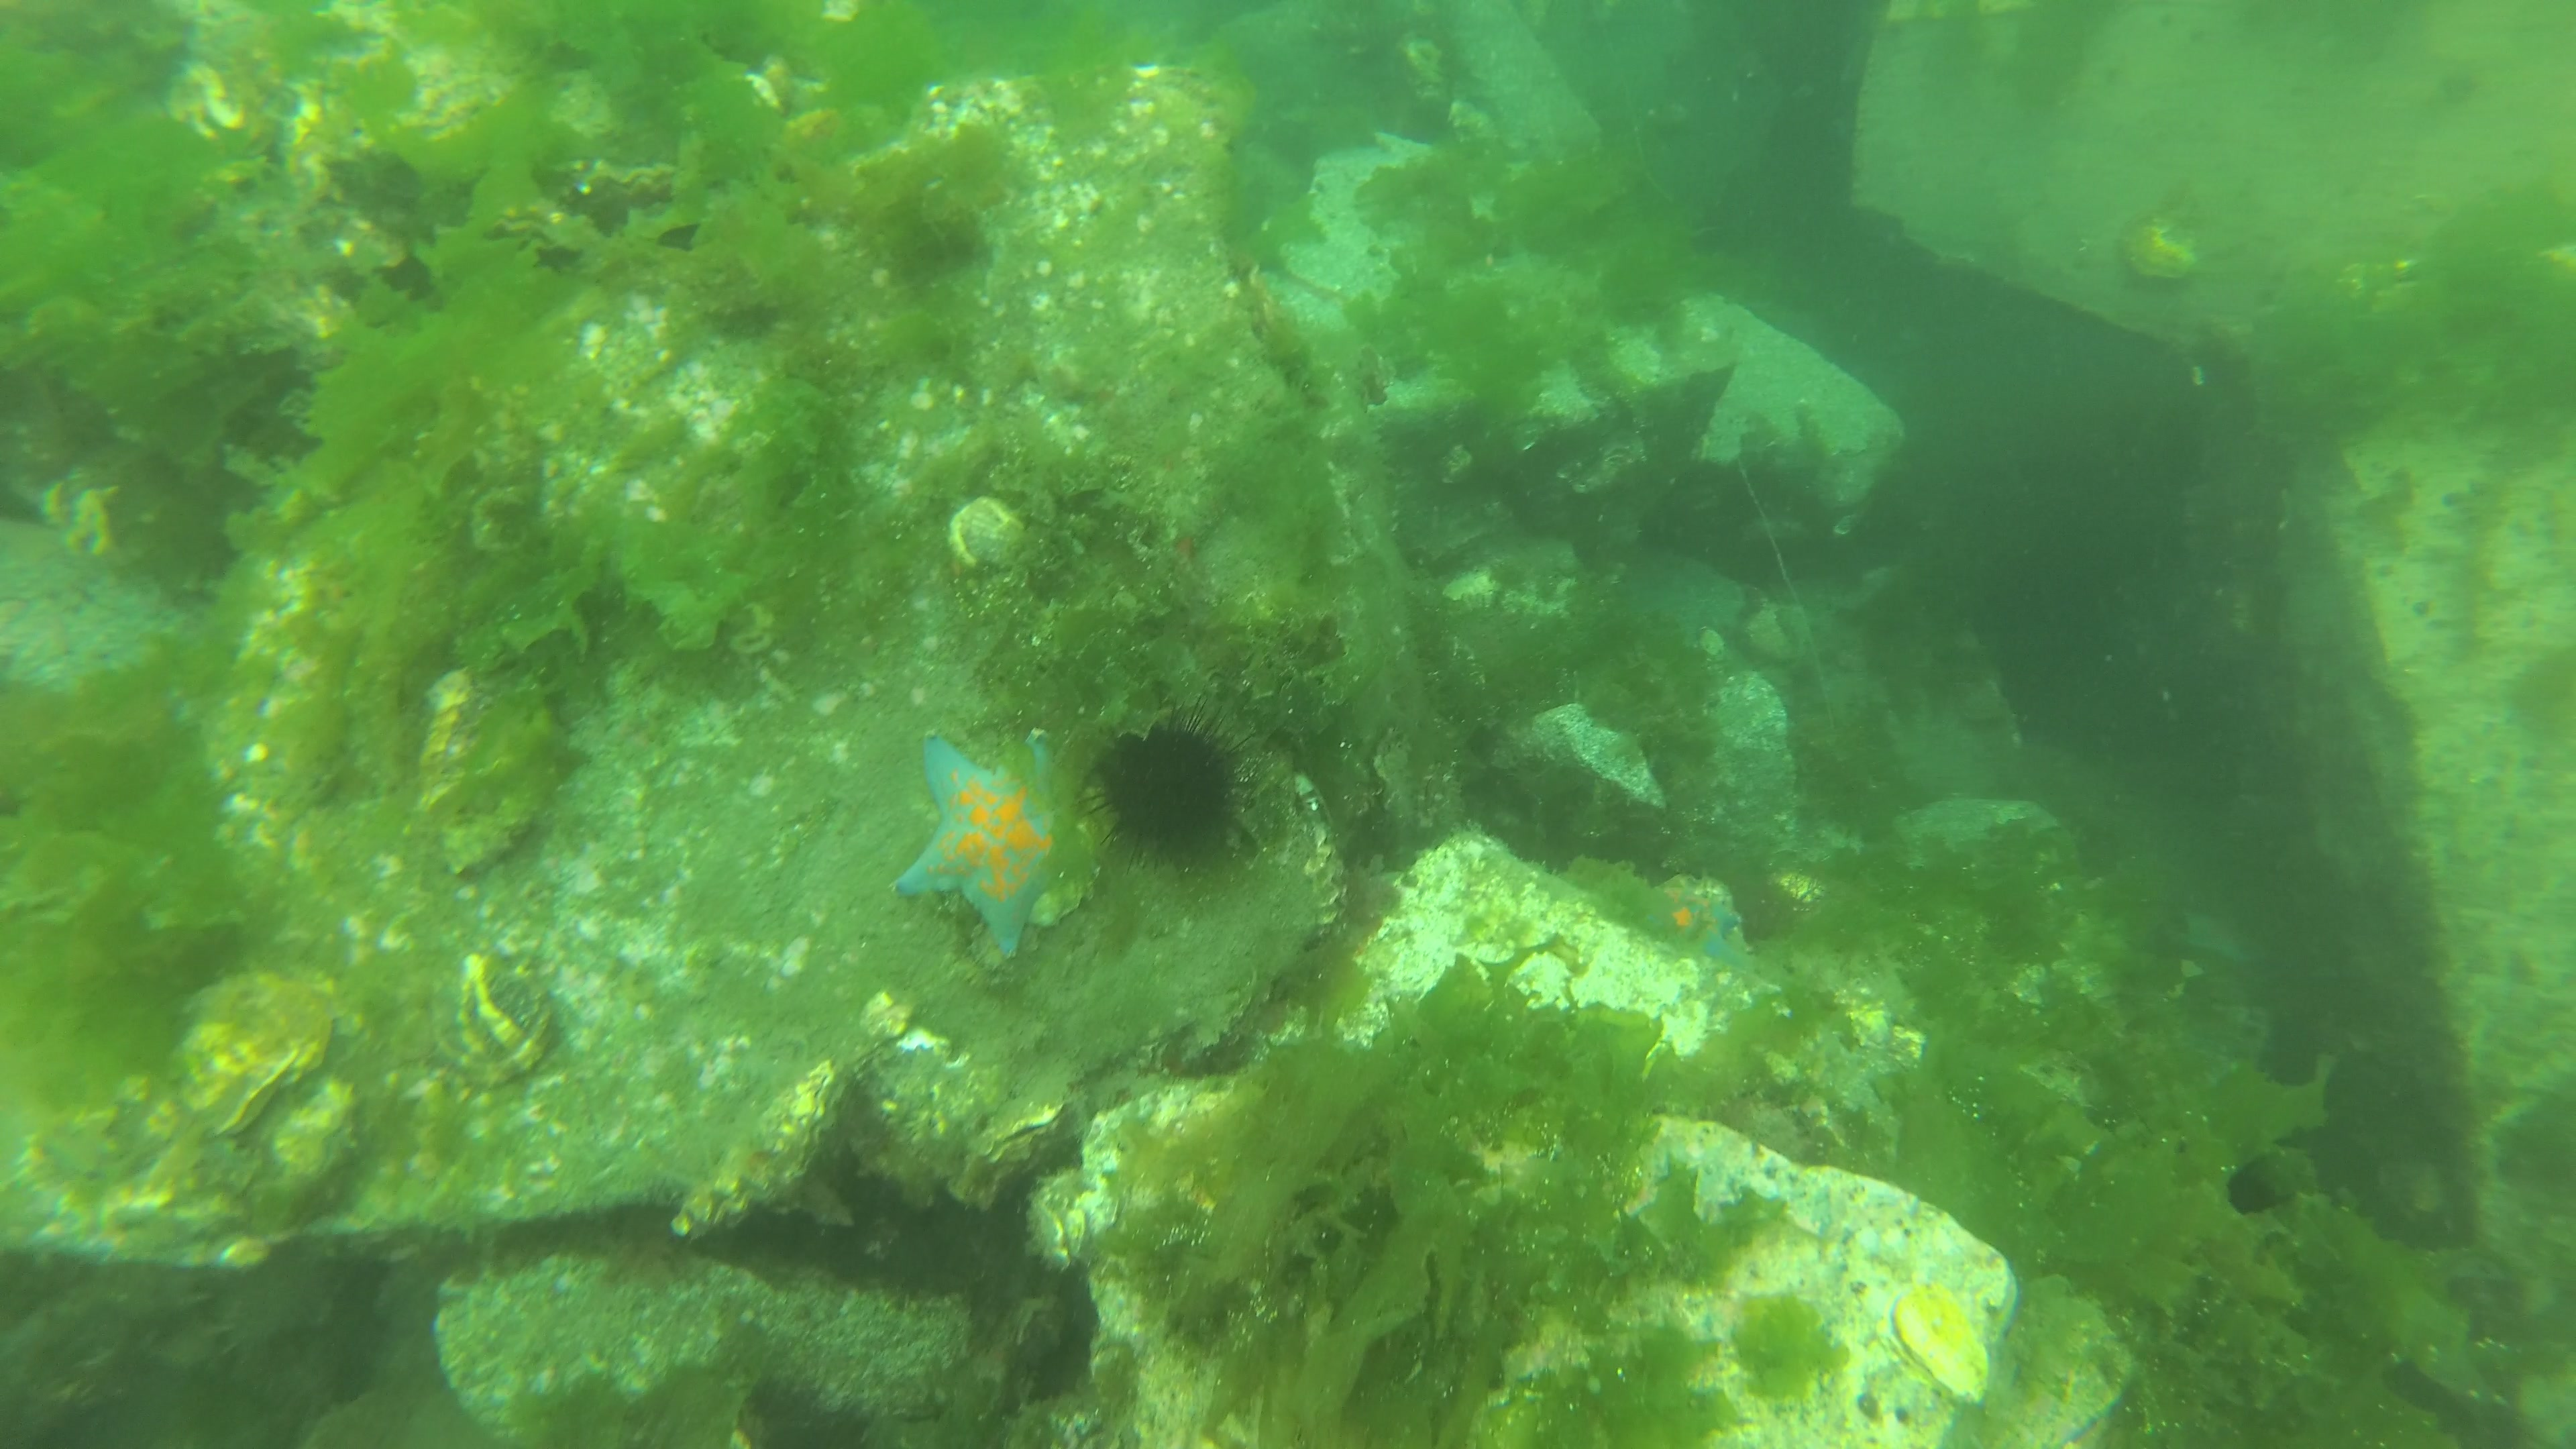echinus: (1083, 697, 1269, 883)
scallop: (145, 970, 341, 1146), (938, 488, 1047, 584)
starfish: (897, 725, 1072, 962), (1638, 876, 1750, 982)
